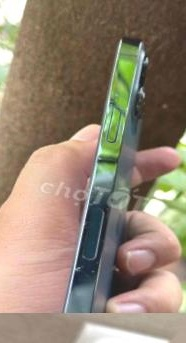scratch: (33, 244, 114, 313)
